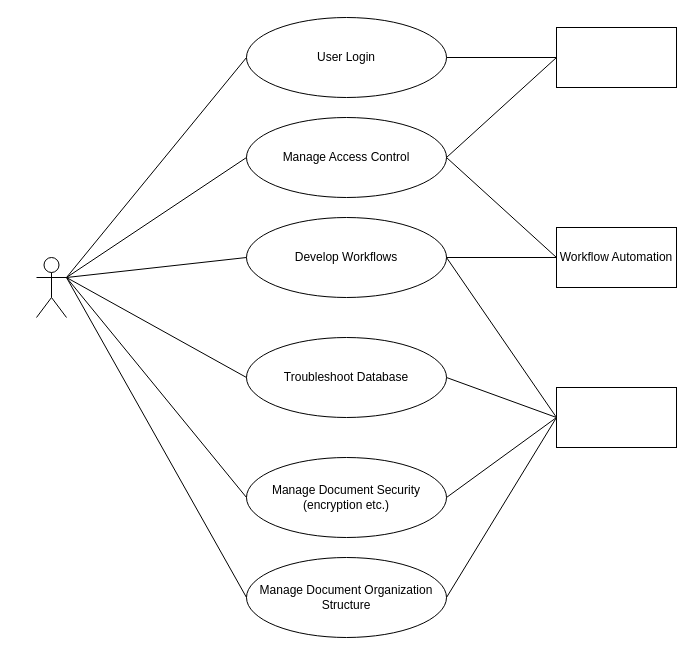
Image size: 694x655. Some labels were removed from this diagram. Here are the shapes that lost their labels. From the top down, the centre of each, then its label:
(x=616, y=57): Access Control
(x=51, y=287): IT Personnel
(x=616, y=417): Database
